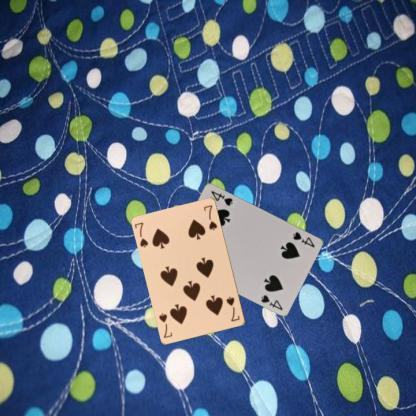4s: (291, 229, 316, 249)
7s: (132, 220, 150, 249), (224, 294, 241, 323)
